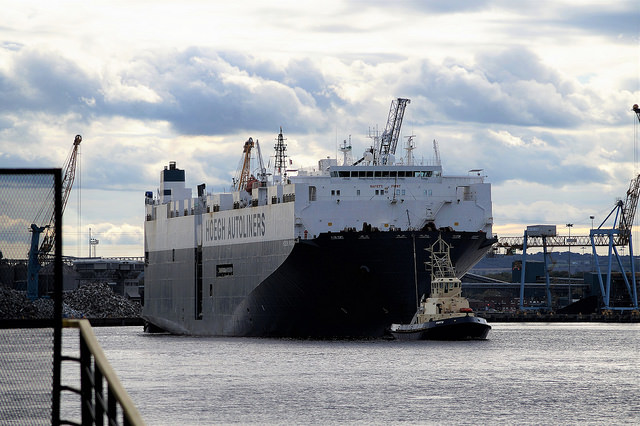PCC: (134, 128, 499, 341)
tug_boat: (390, 236, 489, 344)
